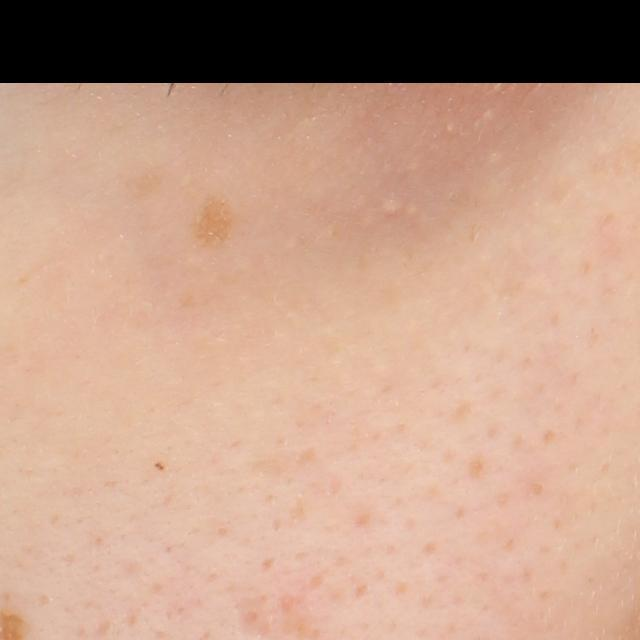melasma: (190, 192, 240, 253)
other: (380, 197, 402, 217)
